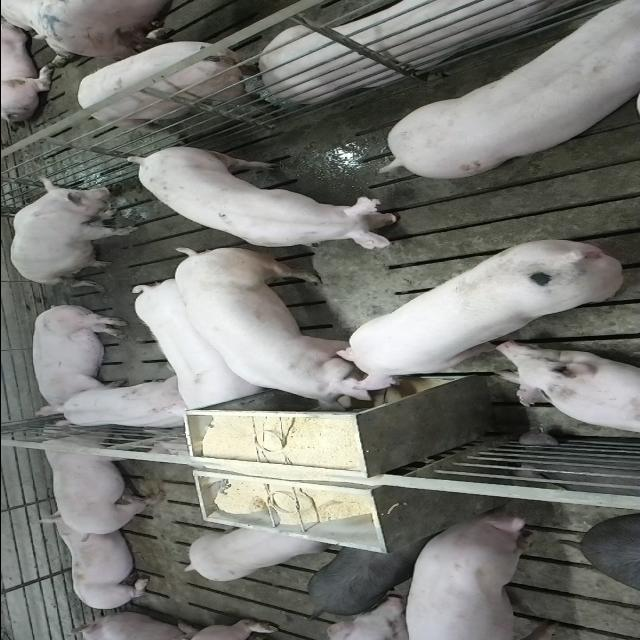Feeding: (332, 236, 626, 400), (170, 250, 382, 417)
Lateral_lying: (28, 302, 128, 418)
Sitting: (8, 174, 138, 286)
Standing: (383, 0, 640, 176), (128, 143, 410, 247), (398, 511, 556, 639), (77, 33, 280, 132), (126, 278, 258, 412), (30, 422, 166, 538), (304, 538, 434, 614), (180, 526, 334, 586)
Sternal_lying: (258, 0, 602, 100), (492, 345, 640, 438), (35, 516, 155, 612), (50, 378, 192, 432)
